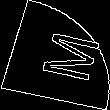M_W: (18, 26, 92, 84)
